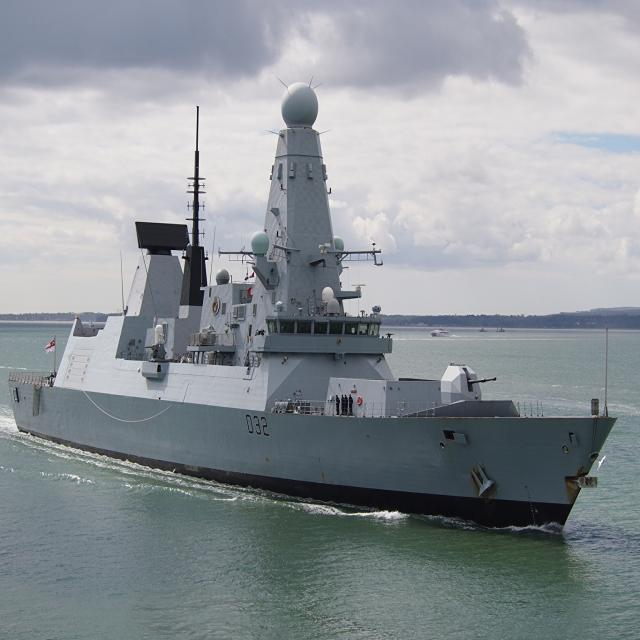navalvessels: (16, 88, 614, 538)
